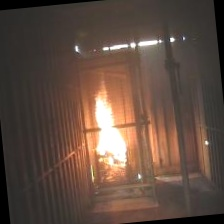fire: (86, 81, 134, 172)
